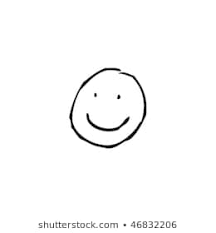feliz: (64, 50, 147, 153)
